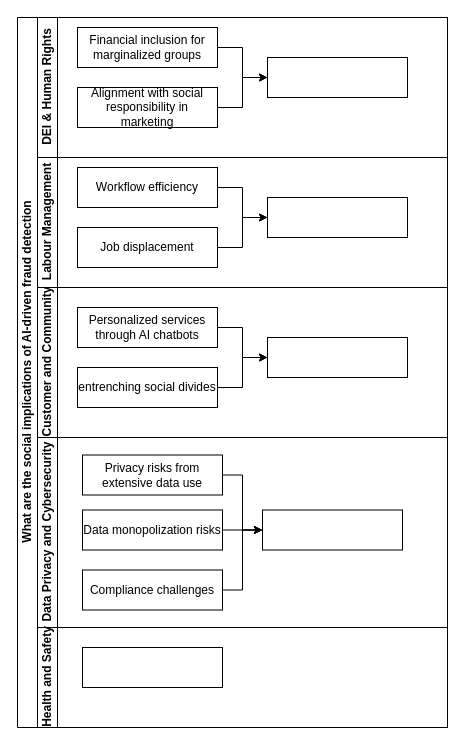
This 465x745 diagram has some shape labels left out. Here are the shapes that lost their labels. From the top down, the centre of each, then its label:
the point at 337,77: Adoption of Responsible AI (RAI) principles
the point at 337,217: Reskilling/upskilling needs
the point at 337,357: Bias Audits and Algorithmic Transparency
the point at 332,529: Recommended solutions: encryption, XAI, GDPR
the point at 152,667: Lack of empirical research
